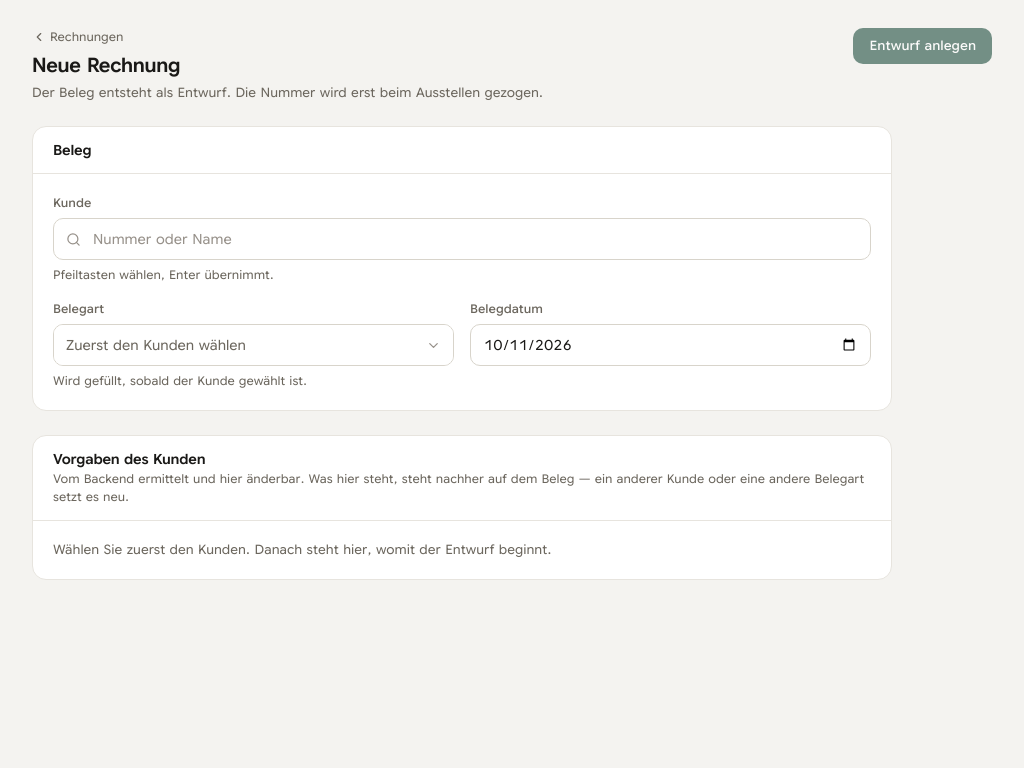
Test: NewDocumentMask › newDocumentMaskKeepsAKindThatWasPickedByHandTest
Type "Meier" into the dropdown labelled "Kunde".
click(476, 239); type("Meier")  # box [81, 219, 870, 259]
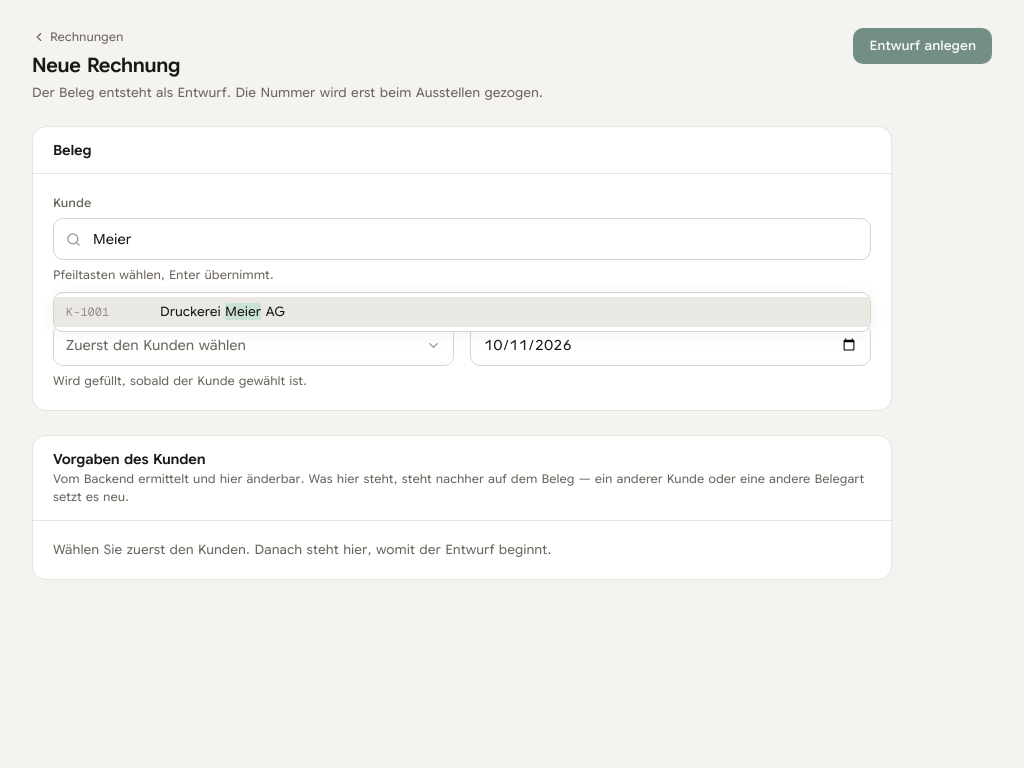
Click the option "K-1001 Druckerei Meier AG".
click(88, 312)  # box [54, 297, 870, 327]
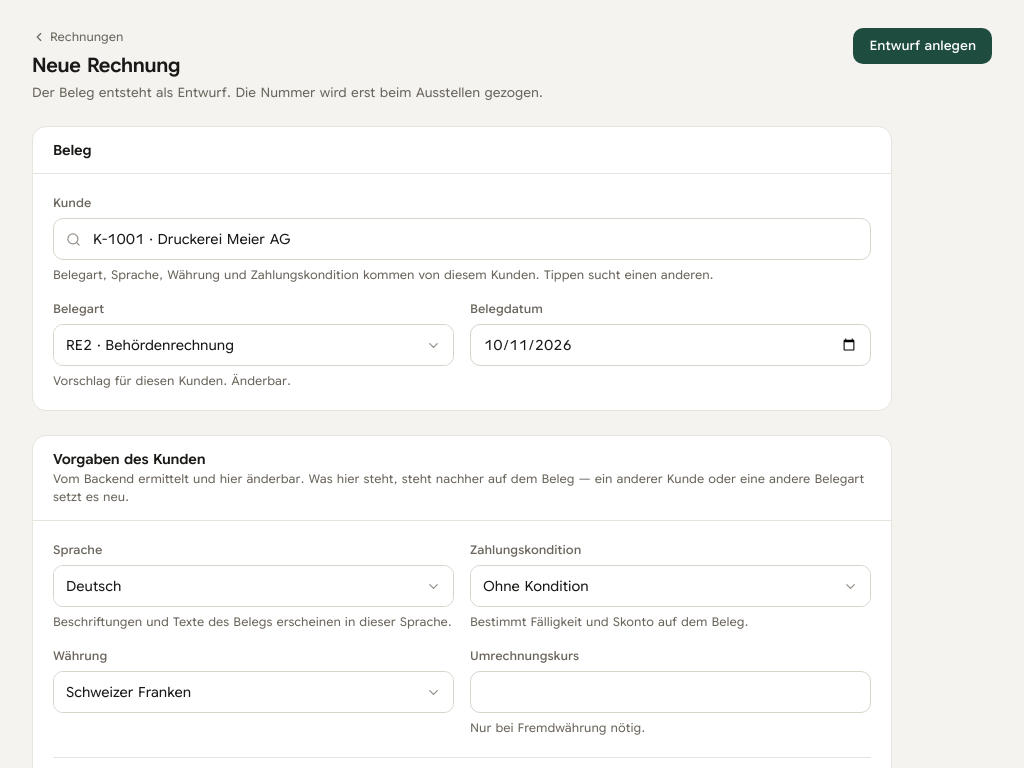
Select "RE2 · Behördenrechnung" in the dropdown labelled "Belegart" at (254, 345), box [54, 325, 453, 365]
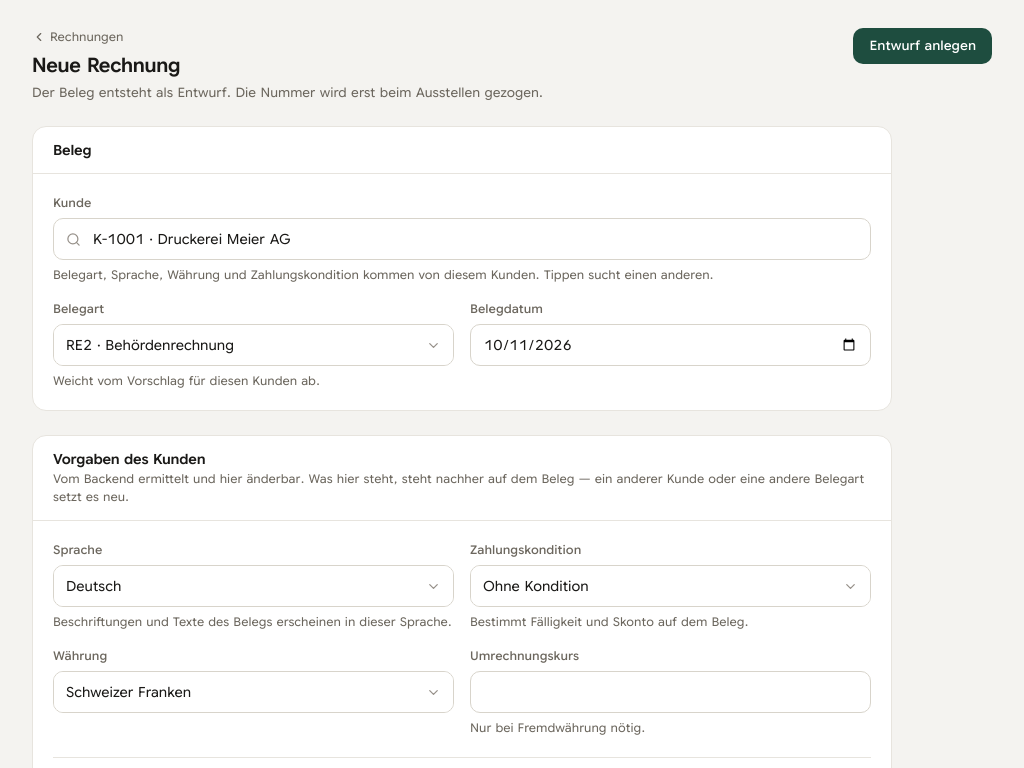
Now the text "Weicht vom Vorschlag für diesen Kunden ab." is shown, box [53, 373, 320, 388]
